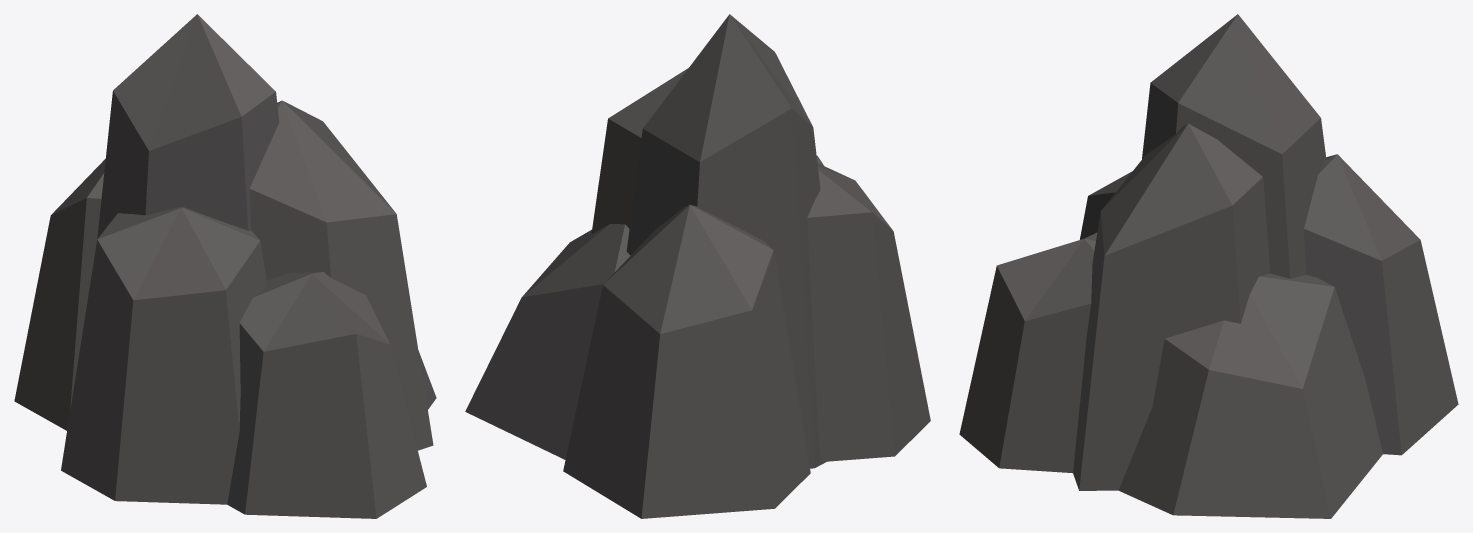
The model's file is Rock_Tiny.fbx.
3 views of the same model, side by side, from view 1: azimuth 30°, elevation 25°; view 2: azimuth 150°, elevation 25°; view 3: azimuth 270°, elevation 25° (orthographic). The views are drawn at different scales.
Parts seen in each view (by area): view 1: SM_Env_Generic_Rock_05; view 2: SM_Env_Generic_Rock_05; view 3: SM_Env_Generic_Rock_05.
Part boxes in pixels (x1,y1,x2,y2): SM_Env_Generic_Rock_05: (14, 14, 436, 518); SM_Env_Generic_Rock_05: (465, 14, 930, 518); SM_Env_Generic_Rock_05: (959, 14, 1458, 518).
Size of the model in its own units: 83.43 by 93.78 by 101.
